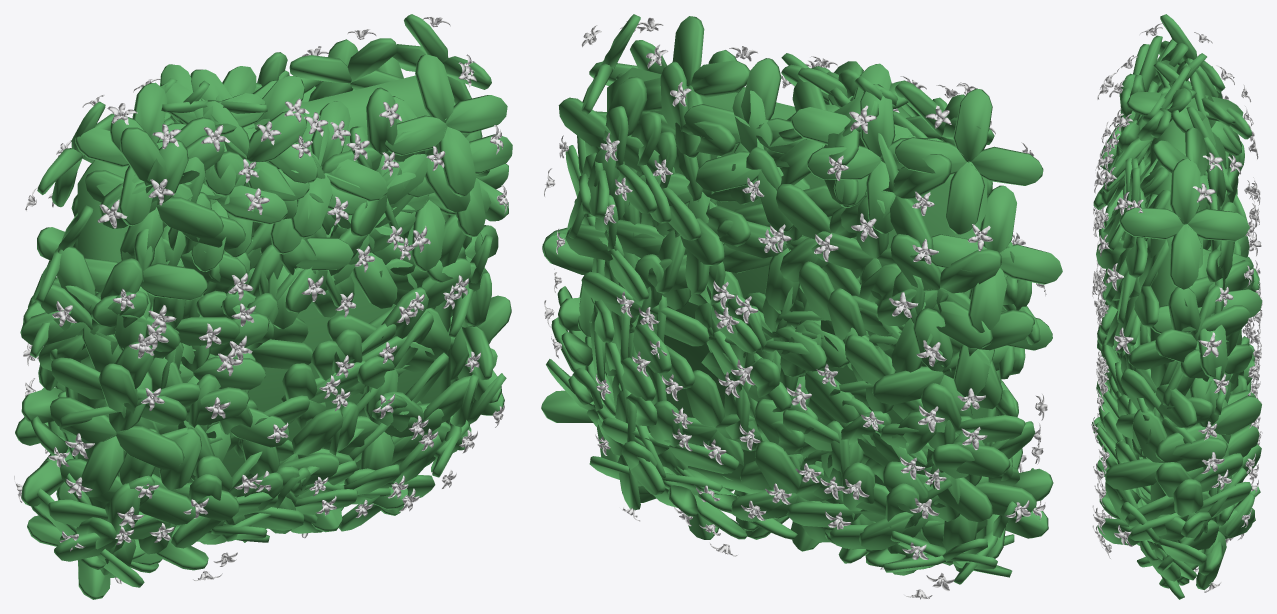
Rendered from FinalHedge22.fbx.
3 renders of one model, left to right at view 1: azimuth 30°, elevation 25°; view 2: azimuth 150°, elevation 25°; view 3: azimuth 270°, elevation 25°, orthographic. The views are drawn at different scales.
Visible parts, largest first — view 1: Cube.004; view 2: Cube.004; view 3: Cube.004.
Part boxes in pixels (box(x1,y1,x2,y2)): Cube.004: box(14, 14, 512, 599); Cube.004: box(541, 14, 1062, 599); Cube.004: box(1091, 14, 1262, 599).
Bounding box in the file's own units: 391 × 386 × 131.
